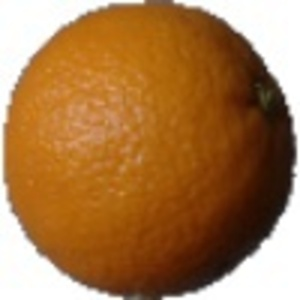laranja: (5, 4, 296, 298)
